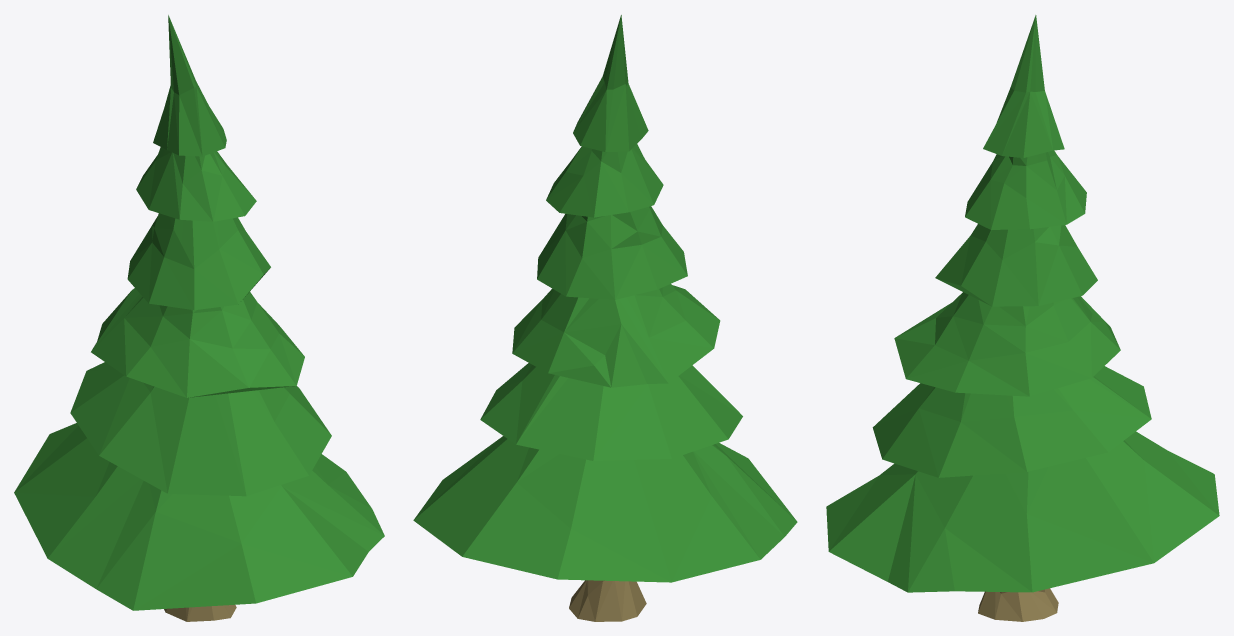
File: BreakableTree.fbx
3 renders of one model, left to right at view 1: azimuth 30°, elevation 25°; view 2: azimuth 150°, elevation 25°; view 3: azimuth 270°, elevation 25°, orthographic. The views are drawn at different scales.
Visible parts, largest first — view 1: LowPolyFirTree_01, LowPolyFirTree_01_Part_3; view 2: LowPolyFirTree_01; view 3: LowPolyFirTree_01.
Part boxes in pixels (<box>): LowPolyFirTree_01: <box>14,15,384,621</box>; LowPolyFirTree_01_Part_3: <box>168,15,196,102</box>; LowPolyFirTree_01: <box>413,15,797,621</box>; LowPolyFirTree_01: <box>826,15,1219,621</box>.
Bounding box in the file's own units: 202 × 375 × 229.
